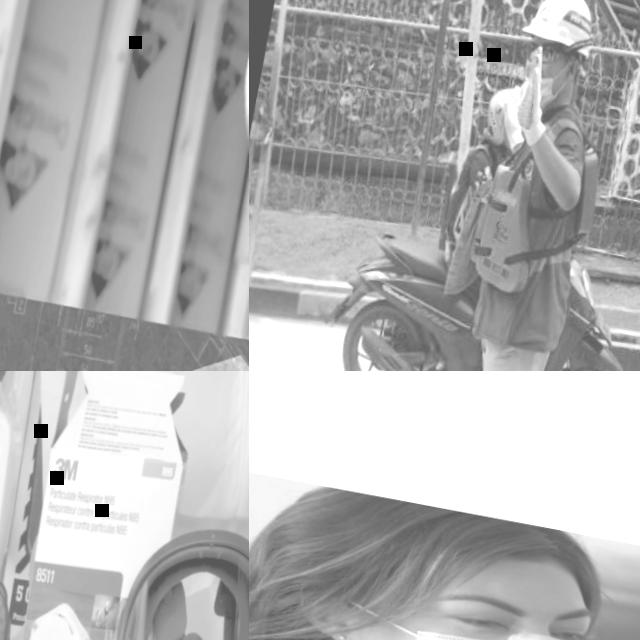Hardhat: (515, 0, 601, 55), (480, 80, 519, 145)
Mask: (74, 516, 249, 640), (317, 598, 587, 640)
NO-Hardhat: (275, 476, 609, 606)
NO-Safety Vest: (447, 142, 500, 240)
Person: (0, 0, 249, 371), (407, 0, 636, 371), (249, 456, 640, 640), (436, 81, 514, 264)
Safety Vest: (463, 101, 610, 300), (191, 0, 249, 371)
